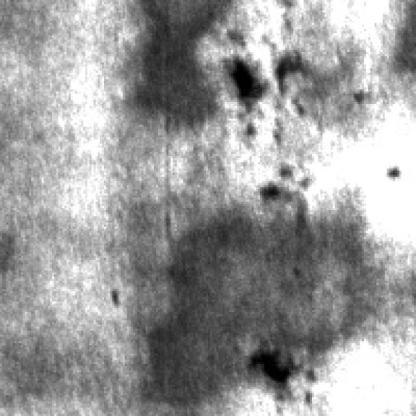inclusion: (226, 46, 300, 108), (248, 341, 314, 397)
patches: (143, 208, 389, 399), (133, 0, 233, 121)
